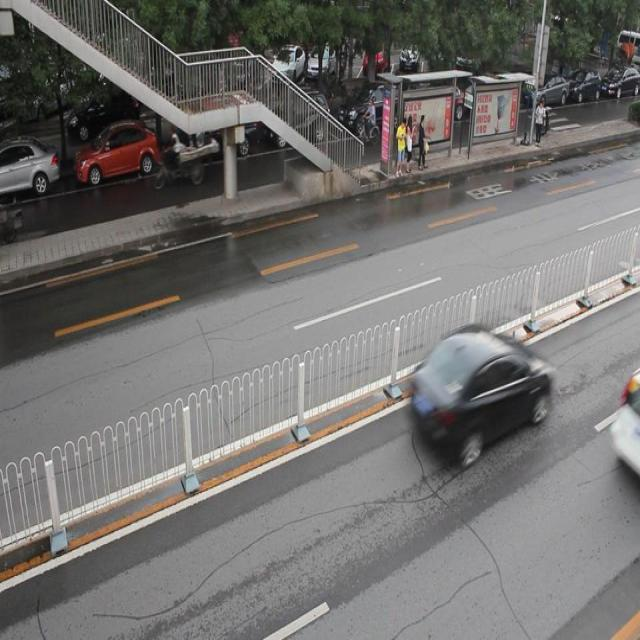car: (408, 321, 552, 464), (73, 118, 160, 184), (169, 100, 256, 163), (264, 90, 331, 148), (339, 79, 408, 133), (1, 136, 59, 198)
